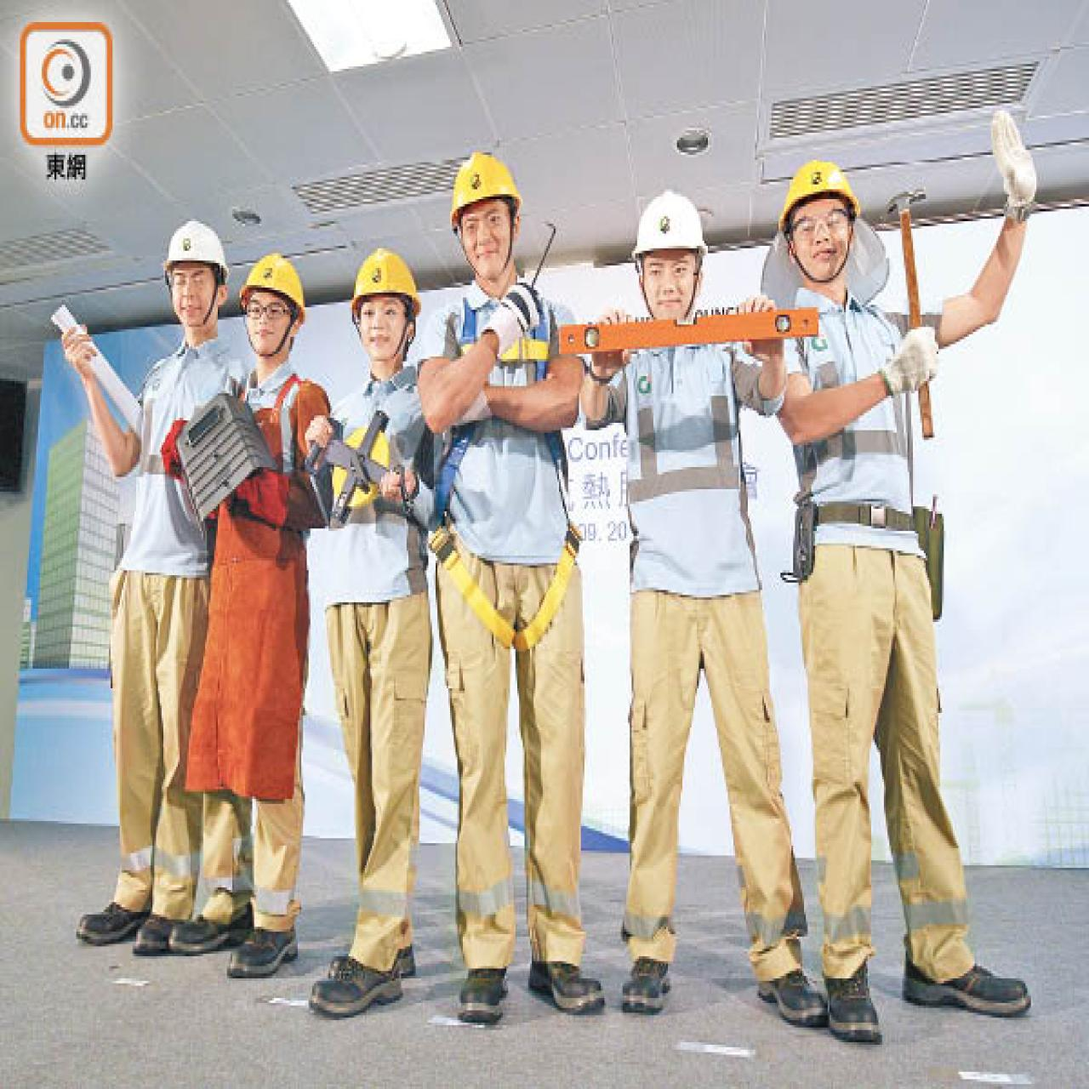NO_Safety_Vest: (779, 298, 947, 572), (615, 334, 765, 613), (430, 276, 573, 568), (326, 365, 437, 592), (124, 348, 232, 580), (210, 365, 321, 576)
Person: (745, 85, 1056, 1070), (577, 167, 839, 1053), (412, 134, 617, 1043), (37, 174, 251, 975), (288, 232, 455, 1018), (160, 221, 330, 984)
